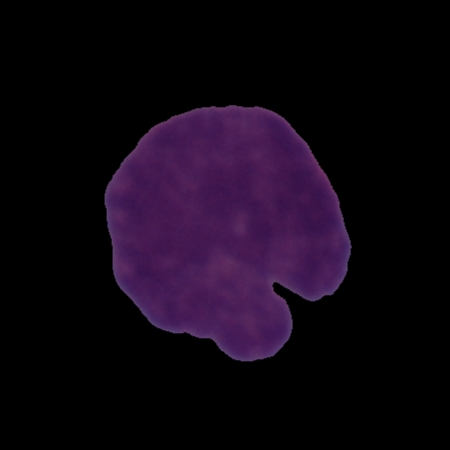ALL: (99, 100, 356, 365)
